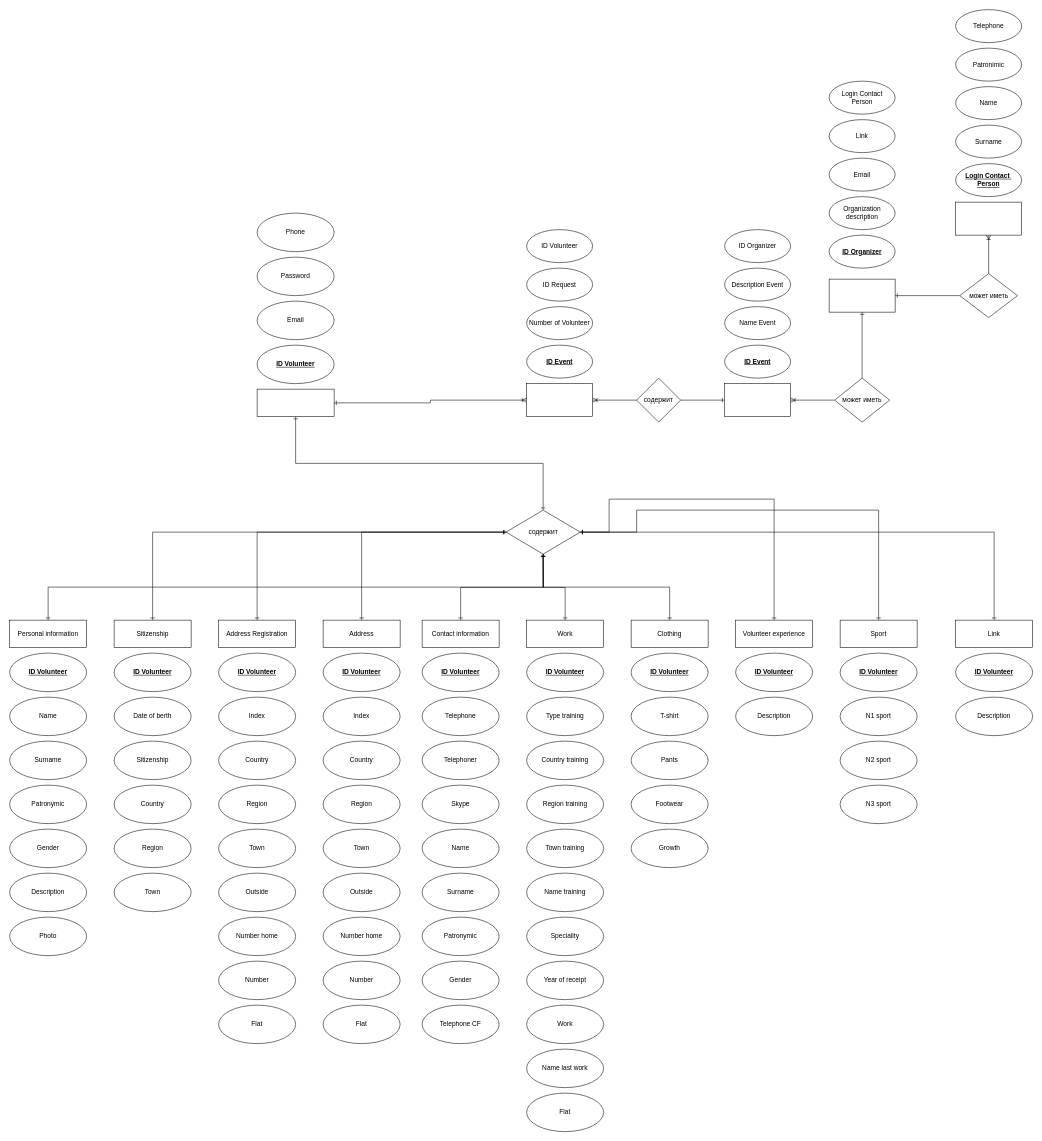
The diagram is 1042 pixels wide and 1141 high, and some of its shapes have lost their labels. Here are the shapes that lost their labels. From the top down, the centre of each, then its label:
At [988,218]: "Contact person".
At [862,295]: "Organizer (Организатор)".
At [295,403]: "Registration Volunteer".
At [559,400]: "Request (Заявка)".
At [757,400]: "Event (событие)".
